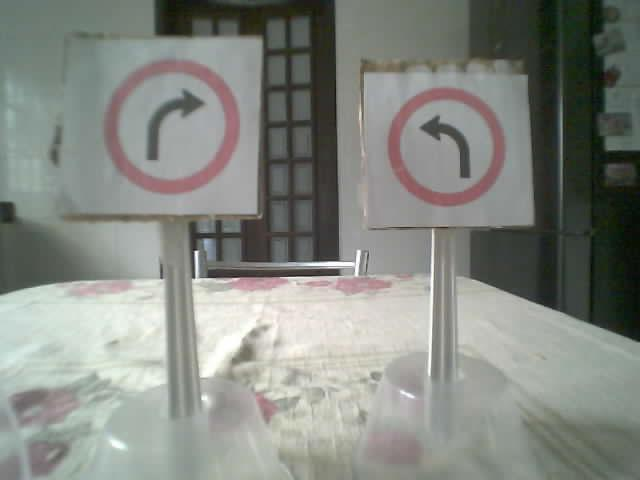R-25a_esquerda: (385, 86, 505, 206)
R-25b_direita: (102, 57, 241, 195)
